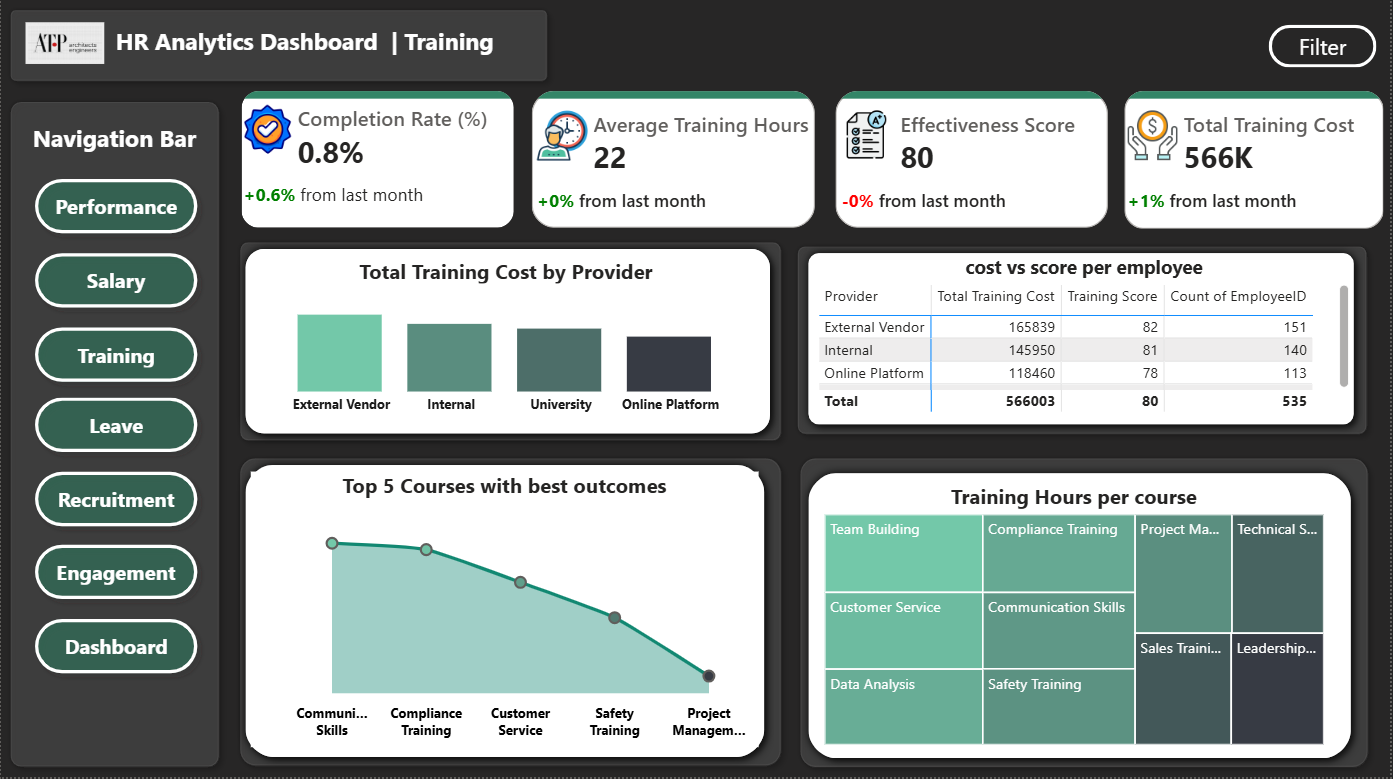

What the dashboard file says about the page in this screenshot:
{"tool":"powerbi","page":{"name":"⚙️Training","canvas":[1280,720],"ordinal":4},"visuals":[{"type":"group","id":"g1","title":"Comapny Title","box":[0,5.4,512.2,83.1],"z":0},{"type":"shape","box":[0,5.4,512.2,83.1],"z":0,"group":"g1"},{"type":"group","id":"g2","title":"KPIs","box":[216.6,83,1063,137.6],"z":0,"group":"g3"},{"type":"cardVisual","fields":{"Data":["04_Training_Records_Dim.Average Training Hours"]},"box":[484.2,83,271.1,136.2],"z":0,"group":"g2"},{"type":"shape","box":[0,89.9,209.8,630.7],"z":0,"group":"g6"},{"type":"shape","box":[211.1,219.3,516.2,200.4],"z":0,"group":"g4"},{"type":"shape","box":[725.5,222.9,542.1,190.7],"z":0,"group":"g7"},{"type":"shape","box":[211.1,418.2,516.3,301],"z":0,"group":"g8"},{"type":"shape","box":[727.4,418.2,540.8,302.4],"z":0,"group":"g5"},{"type":"textbox","box":[100.6,23.4,405.1,46.9],"z":1000,"group":"g1"},{"type":"group","id":"g3","title":"KPIs","box":[216.6,83,1063,137.6],"z":1000},{"type":"cardVisual","fields":{"Data":["04_Training_Records_Dim.Training Effectiveness Score"]},"box":[764.8,83.1,261,136],"z":1000,"group":"g2"},{"type":"shape","box":[216.4,225.7,501.3,188],"z":1000,"group":"g4"},{"type":"shape","box":[735.7,228.5,520.3,175.7],"z":1000,"group":"g7"},{"type":"shape","box":[215.6,424.2,495.9,287],"z":1000,"group":"g8"},{"type":"shape","box":[735,431.6,517.6,280.6],"z":1000,"group":"g5"},{"type":"image","box":[17.7,20.2,82.5,49],"z":2000,"group":"g1"},{"type":"cardVisual","fields":{"Data":["04_Training_Records_Dim.Total Training Cost"]},"box":[1030.4,83,249.3,137.6],"z":2000,"group":"g2"},{"type":"group","id":"g4","title":"Pie Chart","box":[211.1,219.3,516.2,200.4],"z":2000},{"type":"pivotTable","title":"cost vs score per employee","fields":{"Rows":["04_Training_Records_Dim.Provider"],"Values":["04_Training_Records_Dim.Total Training Cost","04_Training_Records_Dim.Training Effectiveness Score","CountNonNull(04_Training_Records_Dim.EmployeeID)"]},"box":[749.3,239.4,498.5,149.8],"z":2000,"group":"g7"},{"type":"columnChart","fields":{"Y":["04_Training_Records_Dim.Total Training Cost"],"Category":["04_Training_Records_Dim.Provider"]},"box":[227.3,242,475.4,153.9],"z":2000,"group":"g4"},{"type":"areaChart","title":"Top 5 Courses with best outcomes","fields":{"Category":["04_Training_Records_Dim.CourseName"],"Y":["04_Training_Records_Dim.Training Effectiveness Score"]},"box":[229.6,439.8,467.9,254.2],"z":2000,"group":"g8"},{"type":"treemap","title":"Training Hours per course","fields":{"Group":["04_Training_Records_Dim.CourseName"],"Values":["04_Training_Records_Dim.Average Training Hours"]},"box":[754.1,449.3,469.9,246.5],"z":2000,"group":"g5"},{"type":"cardVisual","fields":{"Data":["04_Training_Records_Dim.Training Completion Rate (%)"]},"box":[216.6,83.1,261,136],"z":3000,"group":"g2"},{"type":"group","id":"g5","title":"Bubble chart","box":[727.4,418.2,540.8,302.4],"z":3000},{"type":"group","id":"g6","title":"Nav Bar","box":[0,89.9,209.8,630.7],"z":4000},{"type":"group","id":"g7","title":"Area chart","box":[725.5,222.9,542.1,190.7],"z":5000},{"type":"group","id":"g8","title":"Bubble chart","box":[211.1,418.2,516.3,301],"z":6000},{"type":"actionButton","box":[1168.7,27.2,99.4,39.5],"z":8000},{"type":"actionButton","box":[21.8,160.7,167.5,68.1],"z":9000},{"type":"actionButton","box":[21.8,296.9,167.5,68.1],"z":10000},{"type":"actionButton","box":[21.8,362.3,167.5,68.1],"z":11000},{"type":"actionButton","box":[21.8,430.4,167.5,68.1],"z":12000},{"type":"actionButton","box":[21.8,497.2,167.5,68.1],"z":13000},{"type":"actionButton","box":[21.8,228.8,167.5,68.1],"z":14000},{"type":"textbox","box":[17.7,111.7,174.4,57.2],"z":15000},{"type":"actionButton","box":[21.8,566.7,167.5,68.1],"z":16000}]}

Visuals, with their boxes in screenshot pixels (x1, y1, x2, y2), scaled from the page's 1280x720 canvas onto the 1393x779 screenshot:
"Comapny Title" group: (0,6,557,96)
shape: (0,6,557,96)
"KPIs" group: (236,90,1392,239)
cardVisual - 04_Training_Records_Dim.Average Training Hours: (527,90,822,237)
shape: (0,97,228,778)
shape: (230,237,792,454)
shape: (790,241,1380,447)
shape: (230,452,792,778)
shape: (792,452,1380,778)
textbox: (109,25,550,76)
"KPIs" group: (236,90,1392,239)
cardVisual - 04_Training_Records_Dim.Training Effectiveness Score: (832,90,1116,237)
shape: (236,244,781,448)
shape: (801,247,1367,437)
shape: (235,459,774,769)
shape: (800,467,1363,771)
image: (19,22,109,75)
cardVisual - 04_Training_Records_Dim.Total Training Cost: (1121,90,1392,239)
"Pie Chart" group: (230,237,792,454)
"cost vs score per employee" pivotTable: (815,259,1358,421)
columnChart - 04_Training_Records_Dim.Total Training Cost x 04_Training_Records_Dim.Provider: (247,262,765,428)
"Top 5 Courses with best outcomes" areaChart: (250,476,759,751)
"Training Hours per course" treemap: (821,486,1332,753)
cardVisual - 04_Training_Records_Dim.Training Completion Rate (%): (236,90,520,237)
"Bubble chart" group: (792,452,1380,778)
"Nav Bar" group: (0,97,228,778)
"Area chart" group: (790,241,1380,447)
"Bubble chart" group: (230,452,792,778)
actionButton: (1272,29,1380,72)
actionButton: (24,174,206,248)
actionButton: (24,321,206,395)
actionButton: (24,392,206,466)
actionButton: (24,466,206,539)
actionButton: (24,538,206,612)
actionButton: (24,248,206,321)
textbox: (19,121,209,183)
actionButton: (24,613,206,687)
